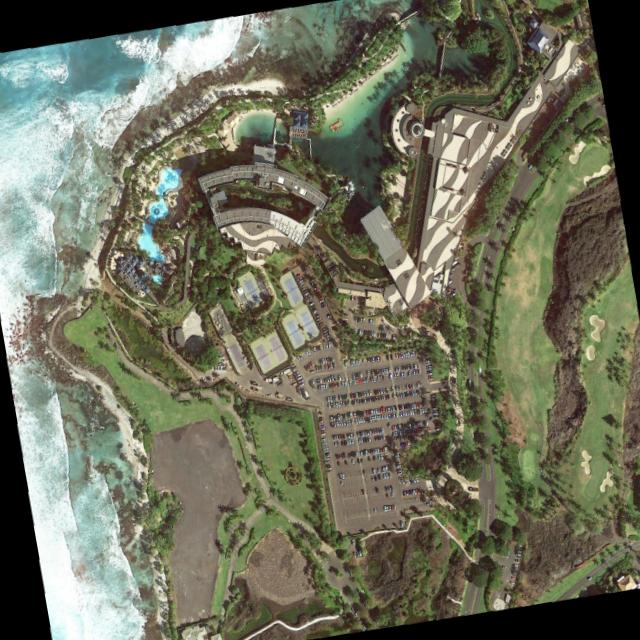large-vehicle: (449, 260, 458, 268), (452, 263, 460, 271)
ship: (476, 12, 482, 21)
small-vehicle: (304, 388, 309, 398), (478, 363, 482, 372), (311, 280, 317, 286), (298, 378, 304, 384), (447, 280, 453, 286), (309, 278, 316, 283), (251, 386, 258, 391), (528, 163, 533, 170), (296, 273, 302, 278), (309, 301, 315, 306), (286, 396, 292, 401), (293, 370, 299, 375), (295, 373, 301, 378), (362, 624, 367, 630), (304, 365, 309, 371), (382, 320, 388, 325), (493, 219, 498, 225), (498, 208, 503, 214), (337, 460, 341, 467), (400, 442, 404, 449), (327, 363, 331, 370), (371, 369, 375, 376), (360, 391, 364, 398), (366, 356, 370, 363), (390, 353, 394, 360), (419, 408, 423, 415), (407, 390, 411, 397), (347, 412, 351, 419), (412, 479, 417, 484), (401, 480, 406, 485), (415, 478, 420, 483), (297, 276, 302, 281), (306, 294, 311, 299), (314, 285, 319, 290), (315, 288, 320, 293), (291, 362, 296, 367), (308, 363, 313, 368), (510, 580, 515, 585), (507, 541, 512, 546), (451, 292, 456, 297), (588, 576, 593, 581), (363, 469, 367, 475), (371, 475, 375, 481), (365, 436, 369, 442), (368, 436, 372, 442), (436, 427, 442, 431), (347, 433, 351, 439), (374, 448, 378, 454), (367, 449, 371, 455), (403, 442, 407, 448), (350, 451, 354, 457), (305, 349, 309, 355), (384, 506, 388, 512), (319, 358, 323, 364), (330, 375, 334, 381), (329, 382, 333, 388), (324, 358, 328, 364), (329, 357, 333, 363), (364, 430, 368, 436), (389, 374, 393, 380), (400, 372, 404, 378), (355, 372, 359, 378), (365, 377, 369, 383), (329, 396, 333, 402), (346, 394, 350, 400), (355, 392, 359, 398), (357, 392, 361, 398), (379, 388, 383, 394), (353, 379, 357, 385), (517, 543, 523, 547), (504, 552, 510, 556), (507, 538, 513, 542), (539, 466, 543, 472), (407, 364, 411, 370), (355, 359, 359, 365), (397, 352, 401, 358), (364, 417, 368, 423), (374, 416, 378, 422), (421, 408, 425, 414), (378, 428, 382, 434), (423, 420, 427, 426), (396, 425, 400, 431), (345, 420, 349, 426), (392, 393, 396, 399), (342, 414, 346, 420), (380, 408, 384, 414), (398, 404, 402, 410), (401, 404, 405, 410), (391, 491, 394, 498), (360, 450, 363, 457), (322, 357, 325, 364), (318, 384, 321, 391), (332, 381, 335, 388), (334, 381, 337, 388), (332, 356, 335, 363), (330, 362, 333, 369), (361, 377, 364, 384), (334, 395, 337, 402), (469, 379, 472, 386), (388, 367, 391, 374), (398, 365, 401, 372), (353, 359, 356, 366), (358, 358, 361, 365), (362, 357, 365, 364), (358, 418, 361, 425), (400, 423, 403, 430), (328, 402, 331, 409), (335, 414, 338, 421), (356, 411, 359, 418), (364, 604, 368, 609), (322, 437, 327, 441), (320, 424, 325, 428), (403, 490, 407, 495), (385, 486, 389, 491), (407, 479, 411, 484), (395, 457, 400, 461), (384, 447, 388, 452), (374, 436, 378, 441), (377, 435, 381, 440), (418, 427, 422, 432), (333, 435, 337, 440), (300, 281, 305, 285), (305, 291, 309, 296), (313, 309, 318, 313), (315, 314, 320, 318), (321, 302, 326, 306), (319, 296, 324, 300), (320, 324, 325, 328), (323, 330, 328, 334), (252, 381, 257, 385), (297, 376, 302, 380), (300, 382, 305, 386), (300, 354, 304, 359), (321, 327, 326, 331), (323, 332, 328, 336), (354, 612, 358, 617), (307, 364, 311, 369), (403, 372, 407, 377), (408, 371, 412, 376), (383, 369, 387, 374), (409, 384, 413, 389), (511, 576, 516, 580), (512, 571, 517, 575), (512, 566, 517, 570), (513, 563, 518, 567), (502, 565, 507, 569), (450, 273, 454, 278), (402, 365, 406, 370), (414, 364, 418, 369), (386, 354, 390, 359), (414, 390, 418, 395), (433, 409, 438, 413), (431, 394, 436, 398), (417, 422, 421, 427), (350, 420, 354, 425), (402, 424, 406, 429), (337, 402, 341, 407), (353, 412, 357, 417), (389, 406, 393, 411), (324, 449, 330, 452), (342, 473, 345, 479), (381, 454, 384, 460), (378, 455, 381, 461), (373, 455, 376, 461), (361, 458, 364, 464), (352, 458, 355, 464), (373, 468, 376, 474), (412, 489, 415, 495), (409, 489, 412, 495), (387, 492, 390, 498), (374, 475, 377, 481), (379, 474, 382, 480), (386, 473, 389, 479), (388, 473, 391, 479), (345, 459, 348, 465), (382, 434, 385, 440), (393, 431, 396, 437), (397, 431, 400, 437), (408, 429, 411, 435), (410, 429, 413, 435), (435, 425, 441, 428), (426, 420, 429, 426), (350, 432, 353, 438), (357, 431, 360, 437), (358, 438, 361, 444), (356, 451, 359, 457), (377, 447, 380, 453), (365, 449, 368, 455), (394, 443, 397, 449), (405, 441, 408, 447), (407, 441, 410, 447), (363, 449, 366, 455), (334, 441, 337, 447), (336, 434, 339, 440), (342, 440, 345, 446), (349, 439, 352, 445), (391, 505, 394, 511), (326, 344, 329, 350), (351, 295, 354, 301), (328, 343, 331, 349), (323, 344, 326, 350), (308, 348, 311, 354), (325, 383, 328, 389), (328, 376, 331, 382), (320, 384, 323, 390), (323, 384, 326, 390), (327, 357, 330, 363), (336, 381, 339, 387), (359, 550, 362, 556), (401, 521, 404, 527), (372, 319, 375, 325), (358, 329, 361, 335), (380, 332, 383, 338), (311, 362, 314, 368), (310, 370, 316, 373), (316, 365, 319, 371), (318, 365, 321, 371), (320, 364, 323, 370), (325, 364, 328, 370), (362, 430, 365, 436), (373, 376, 376, 382), (377, 375, 380, 381), (413, 369, 416, 375), (416, 369, 419, 375), (427, 372, 433, 375), (425, 360, 431, 363), (374, 369, 377, 375), (376, 369, 379, 375), (353, 392, 356, 398), (412, 383, 415, 389), (398, 385, 401, 391), (395, 385, 398, 391), (332, 396, 335, 402), (339, 394, 342, 400), (344, 394, 347, 400), (350, 393, 353, 399), (374, 389, 377, 395), (386, 387, 389, 393), (349, 380, 352, 386), (417, 389, 420, 395), (516, 550, 522, 553), (504, 555, 510, 558), (464, 276, 467, 282), (345, 361, 348, 367), (369, 356, 372, 362), (377, 356, 380, 362), (395, 352, 398, 358), (403, 352, 406, 358), (405, 352, 408, 358), (407, 351, 410, 357), (410, 351, 413, 357), (415, 350, 418, 356), (417, 382, 420, 388), (366, 429, 369, 435), (362, 417, 365, 423), (384, 414, 387, 420), (388, 414, 391, 420), (390, 413, 393, 419), (402, 411, 405, 417), (407, 410, 410, 416), (409, 410, 412, 416), (412, 410, 415, 416), (414, 409, 417, 415), (418, 402, 421, 408), (415, 402, 418, 408), (360, 418, 363, 424), (355, 419, 358, 425), (330, 416, 333, 422), (405, 423, 408, 429), (371, 429, 374, 435), (374, 428, 377, 434), (376, 428, 379, 434), (388, 422, 391, 428), (420, 420, 423, 426), (415, 421, 418, 427), (409, 423, 412, 429), (407, 423, 410, 429), (392, 426, 395, 432), (394, 425, 397, 431), (433, 412, 439, 415), (336, 421, 339, 427), (338, 421, 341, 427), (348, 420, 351, 426), (412, 390, 415, 396), (342, 400, 345, 406), (347, 399, 350, 405), (351, 399, 354, 405), (354, 399, 357, 405), (356, 399, 359, 405), (359, 398, 362, 404), (364, 397, 367, 403), (366, 396, 369, 402), (380, 394, 383, 400), (383, 394, 386, 400), (385, 394, 388, 400), (410, 390, 413, 396), (413, 403, 416, 409), (338, 414, 341, 420), (345, 413, 348, 419), (350, 412, 353, 418), (366, 410, 369, 416), (369, 409, 372, 415), (375, 409, 378, 415), (410, 480, 414, 484), (427, 429, 431, 433), (317, 317, 321, 321), (299, 279, 303, 283), (301, 284, 305, 288), (303, 286, 307, 290), (304, 289, 308, 293), (308, 296, 312, 300), (312, 307, 316, 311), (318, 320, 322, 324), (319, 322, 323, 326), (323, 305, 327, 309), (320, 299, 324, 303), (323, 442, 328, 445), (324, 444, 329, 447), (324, 447, 329, 450), (325, 452, 330, 455), (325, 455, 330, 458), (327, 464, 332, 467), (339, 473, 342, 478), (340, 480, 343, 485), (321, 433, 326, 436), (320, 430, 325, 433), (320, 422, 325, 425), (319, 420, 324, 423), (318, 412, 323, 415), (319, 417, 324, 420), (368, 456, 371, 461), (357, 458, 360, 463), (378, 468, 381, 473), (415, 489, 418, 494), (407, 490, 410, 495), (388, 486, 391, 491), (363, 490, 366, 495), (383, 474, 386, 479), (385, 466, 388, 471), (414, 428, 417, 433), (380, 435, 383, 440), (395, 432, 398, 437), (400, 431, 403, 436), (416, 428, 419, 433), (426, 427, 431, 430), (338, 434, 341, 439), (363, 437, 366, 442), (382, 448, 385, 453), (379, 448, 382, 453), (372, 449, 375, 454), (370, 449, 373, 454), (348, 453, 351, 458), (344, 453, 347, 458), (341, 454, 344, 459), (339, 454, 342, 459), (344, 441, 347, 446), (346, 440, 349, 445), (327, 314, 332, 317), (318, 345, 321, 350), (291, 366, 296, 369), (298, 355, 301, 360), (313, 346, 316, 351), (316, 346, 319, 351), (312, 379, 315, 384), (319, 378, 322, 383), (333, 376, 336, 381), (342, 381, 345, 386), (344, 381, 347, 386), (376, 620, 379, 625), (354, 552, 357, 557), (357, 551, 360, 556), (352, 540, 355, 545), (374, 507, 377, 512), (324, 335, 329, 338), (325, 338, 330, 341), (344, 313, 349, 316), (361, 329, 364, 334), (380, 375, 383, 380), (394, 373, 397, 378), (396, 372, 399, 377), (418, 369, 421, 374), (428, 377, 433, 380), (363, 378, 366, 383), (427, 367, 432, 370), (426, 363, 431, 366), (352, 373, 355, 378), (360, 372, 363, 377), (367, 371, 370, 376), (406, 384, 409, 389), (327, 397, 330, 402), (363, 391, 366, 396), (366, 391, 369, 396), (369, 390, 372, 395), (377, 389, 380, 394), (383, 388, 386, 393), (391, 387, 394, 392), (356, 379, 359, 384), (381, 369, 384, 374), (386, 369, 389, 374), (542, 473, 545, 478), (516, 553, 521, 556), (506, 549, 511, 552), (465, 270, 468, 275), (372, 356, 375, 361), (395, 367, 398, 372), (405, 365, 408, 370), (374, 356, 377, 361), (379, 356, 382, 361), (412, 351, 415, 356), (396, 413, 399, 418), (367, 417, 370, 422), (369, 417, 372, 422), (377, 416, 380, 421), (381, 415, 384, 420), (386, 415, 389, 420), (393, 413, 396, 418), (400, 412, 403, 417), (405, 411, 408, 416), (424, 408, 427, 413), (369, 430, 372, 435), (413, 422, 416, 427), (331, 422, 334, 427), (334, 422, 337, 427), (343, 421, 346, 426), (432, 397, 437, 400), (333, 403, 336, 408), (336, 402, 339, 407), (340, 401, 343, 406), (344, 400, 347, 405), (362, 398, 365, 403), (371, 396, 374, 401), (373, 396, 376, 401), (375, 395, 378, 400), (378, 395, 381, 400), (387, 394, 390, 399), (399, 392, 402, 397), (396, 392, 399, 397), (402, 392, 405, 397), (405, 391, 408, 396), (373, 410, 376, 415), (340, 415, 343, 420), (359, 411, 362, 416), (361, 411, 364, 416), (371, 410, 374, 415), (378, 409, 381, 414), (385, 407, 388, 412), (394, 405, 397, 410), (404, 404, 407, 409), (406, 404, 409, 409), (409, 403, 412, 408), (361, 437, 363, 444), (364, 329, 366, 336), (383, 332, 385, 339), (359, 377, 361, 384), (381, 427, 383, 434), (328, 467, 332, 470), (395, 452, 399, 455), (395, 455, 399, 458), (398, 472, 402, 475), (398, 469, 402, 472), (396, 462, 400, 465), (430, 417, 433, 421), (341, 433, 343, 439), (354, 452, 356, 458), (352, 439, 354, 445), (337, 454, 339, 460), (387, 505, 389, 511), (318, 294, 322, 297), (354, 296, 356, 302), (317, 379, 320, 383), (324, 377, 326, 383), (326, 378, 329, 382), (339, 375, 341, 381), (360, 318, 363, 322), (362, 318, 365, 322), (370, 318, 372, 324), (368, 330, 370, 336), (374, 331, 376, 337), (378, 332, 380, 338), (427, 375, 433, 377), (371, 376, 373, 382), (426, 365, 432, 367), (342, 394, 344, 400), (510, 584, 514, 587), (426, 331, 430, 334), (351, 360, 353, 366), (401, 352, 403, 358), (372, 416, 374, 422), (433, 407, 437, 410), (399, 424, 401, 430), (333, 415, 335, 421), (369, 396, 371, 402), (383, 407, 385, 413), (417, 408, 419, 414), (325, 458, 330, 460), (327, 470, 332, 472), (323, 440, 328, 442), (321, 427, 326, 429), (394, 505, 396, 510), (391, 485, 393, 490), (383, 467, 385, 472), (396, 465, 401, 467), (404, 431, 406, 436), (406, 430, 408, 435), (343, 434, 345, 439), (353, 432, 355, 437), (337, 441, 339, 446), (389, 505, 391, 510), (371, 331, 373, 336), (354, 329, 356, 334), (355, 316, 357, 321), (358, 317, 360, 322), (366, 330, 368, 335), (360, 431, 362, 436), (427, 370, 432, 372), (358, 373, 360, 378), (379, 369, 381, 374), (393, 335, 395, 340), (379, 415, 381, 420), (341, 421, 343, 426), (331, 403, 333, 408), (364, 411, 366, 416), (412, 404, 414, 409), (388, 407, 390, 412), (393, 406, 395, 411), (448, 291, 451, 294), (386, 333, 387, 339)
